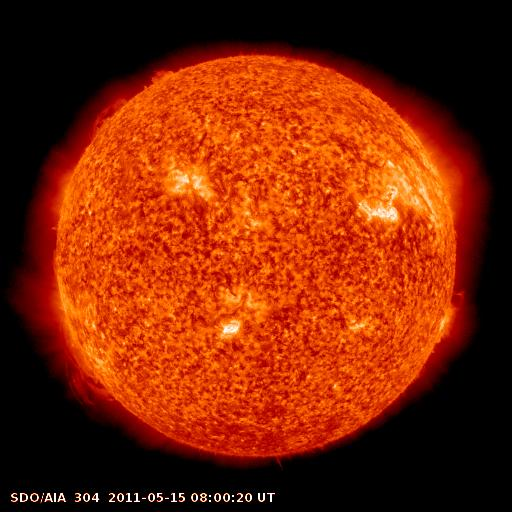prominence: (47, 317, 125, 417), (87, 91, 133, 141), (143, 60, 182, 93)
